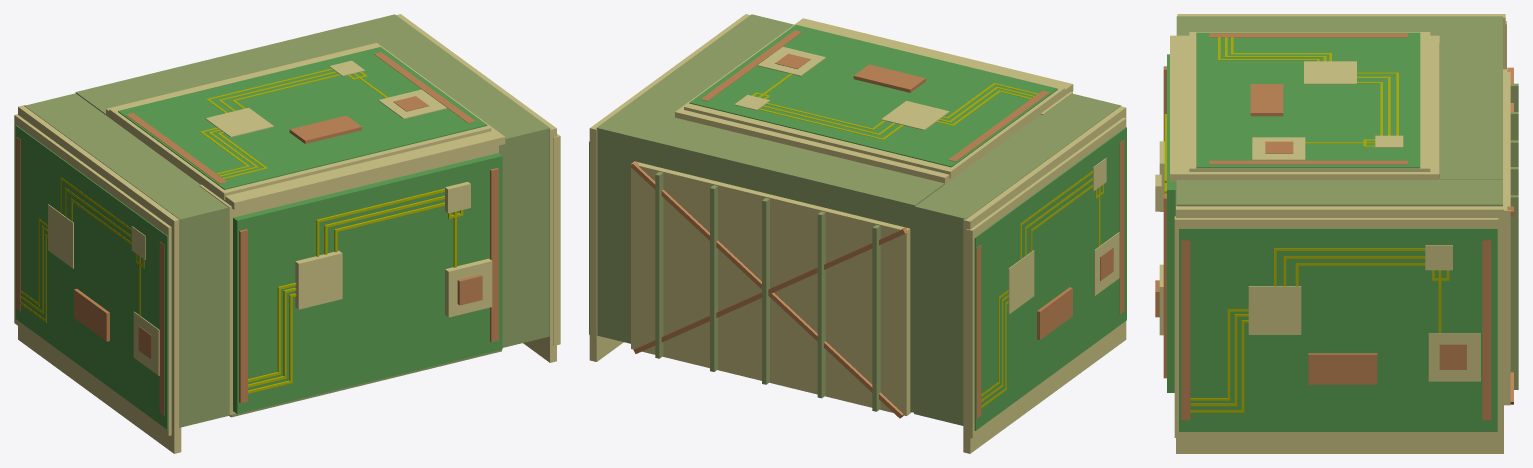
Rendered from final_chest.fbx.
The picture shows the model from 3 angles, left to right: view 1: azimuth 30°, elevation 25°; view 2: azimuth 150°, elevation 25°; view 3: azimuth 270°, elevation 25°; orthographic projection. The views are drawn at different scales.
Parts seen in each view (by area): view 1: polySurface8, polySurface40; view 2: polySurface8, polySurface40; view 3: polySurface8, polySurface40.
Boxes of the visible parts, x1,y1,x2,y2 form: polySurface8: (14,14,560,453); polySurface40: (106,43,505,209); polySurface8: (589,14,1126,453); polySurface40: (675,18,1073,183); polySurface8: (1155,14,1518,453); polySurface40: (1170,32,1439,181).
Bounding box in the file's own units: 1.43 × 0.8551 × 1.09.
